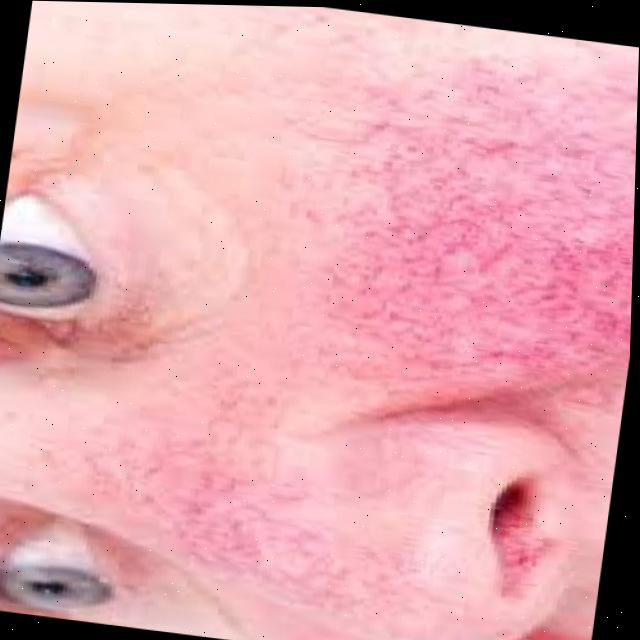Rosacea: (123, 3, 640, 578)
